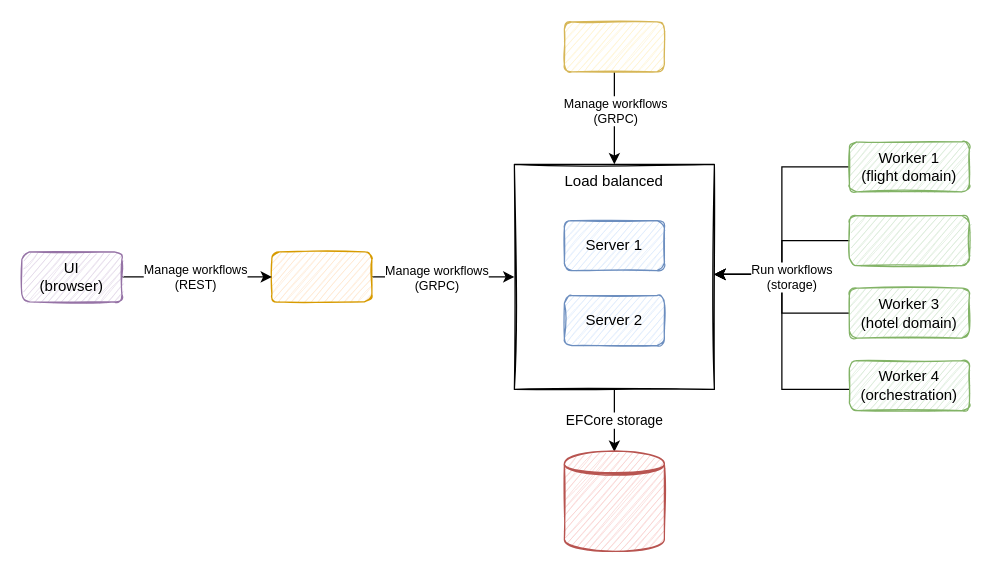
The diagram is 991 pixels wide and 574 high, and some of its shapes have lost their labels. Here are the shapes that lost their labels. From the top down, the box of each, then its label:
(563, 21, 664, 72): Other APIs
(848, 214, 969, 266): Worker 2 (car domain)
(271, 251, 372, 302): API
(563, 451, 664, 552): MySql/ PostgreSQL/ SqlServer
